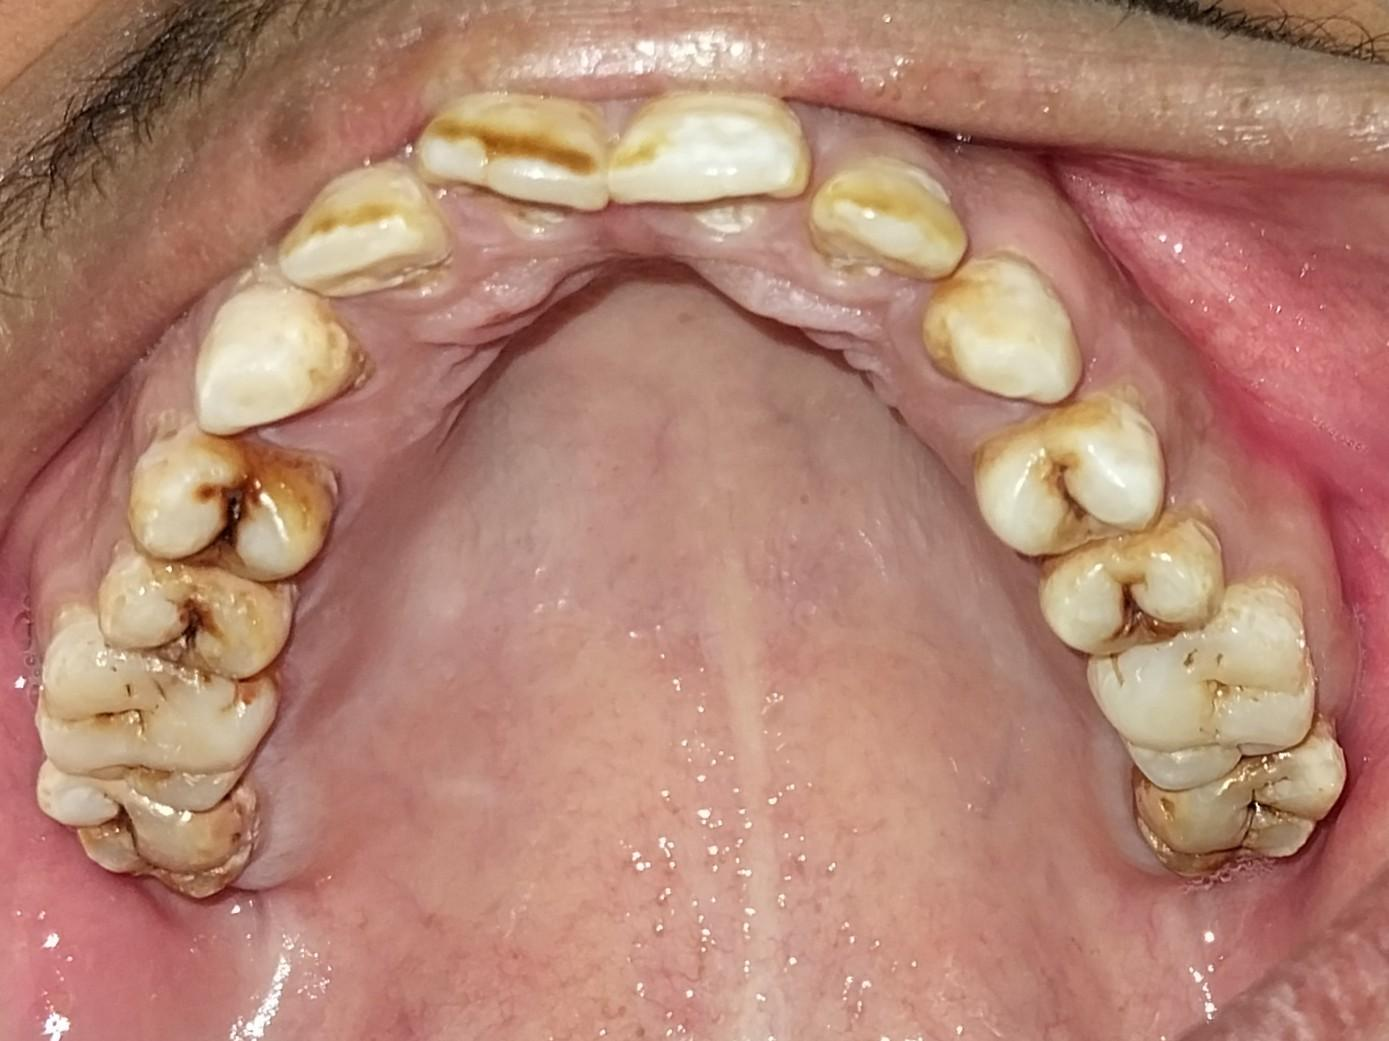D: (1088, 584, 1315, 791), (39, 619, 275, 816), (1134, 723, 1350, 884), (130, 426, 333, 587), (969, 402, 1169, 554), (35, 766, 260, 897), (99, 543, 295, 681), (1039, 527, 1224, 657)
